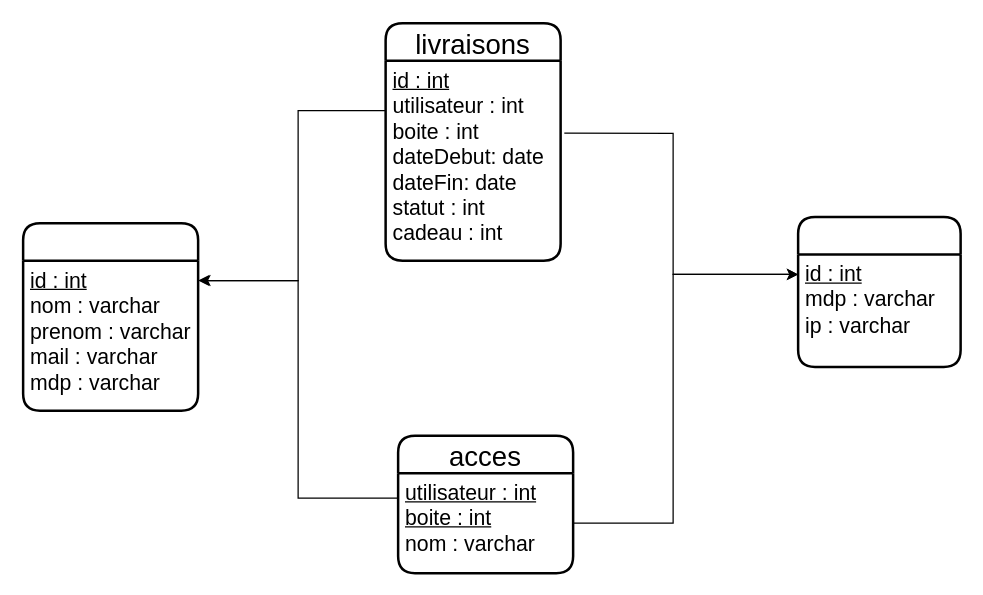
This 983x595 diagram has some shape labels left out. Each missing label, with the box of its shape:
boites: (796, 215, 961, 368)
utilisateurs: (21, 221, 199, 411)
